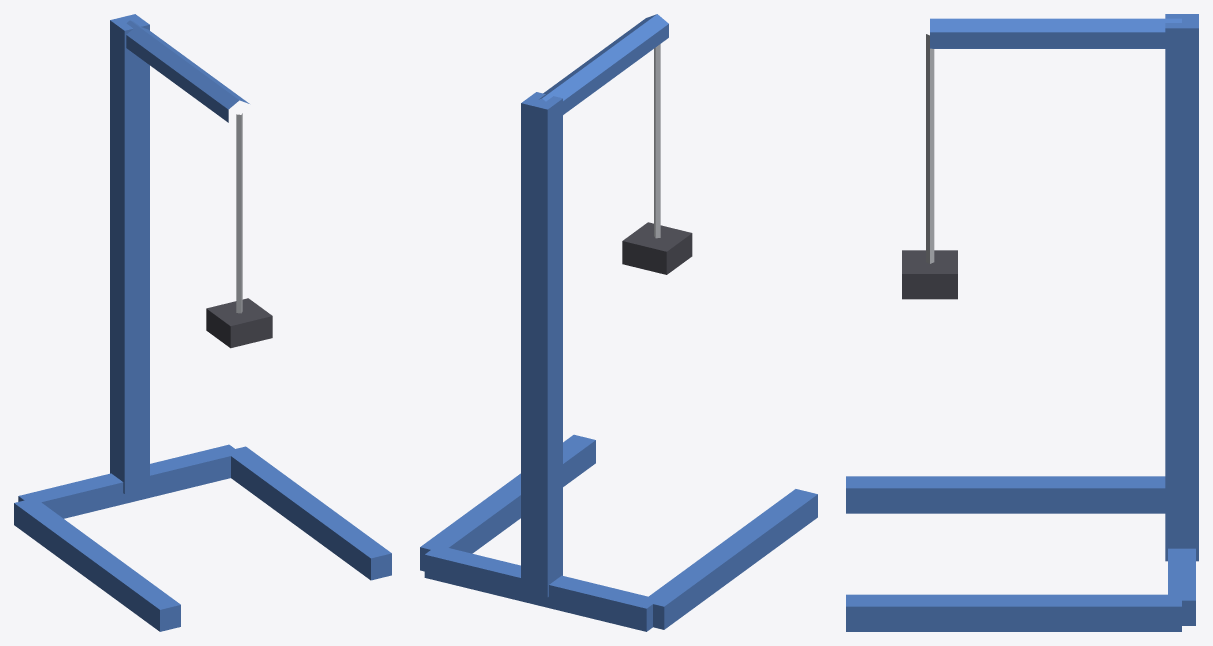
The model's file is engine_hoist.glb.
3 views of the same model, side by side, from view 1: azimuth 30°, elevation 25°; view 2: azimuth 150°, elevation 25°; view 3: azimuth 270°, elevation 25° (orthographic). The views are drawn at different scales.
Parts seen in each view (by area): view 1: engine_hoist; view 2: engine_hoist; view 3: engine_hoist.
Boxes of the visible parts, x1,y1,x2,y2 form: engine_hoist: [14, 14, 391, 631]; engine_hoist: [420, 14, 817, 631]; engine_hoist: [846, 14, 1198, 631].
Size of the model in its own units: 1.1 by 2.16 by 1.26.
